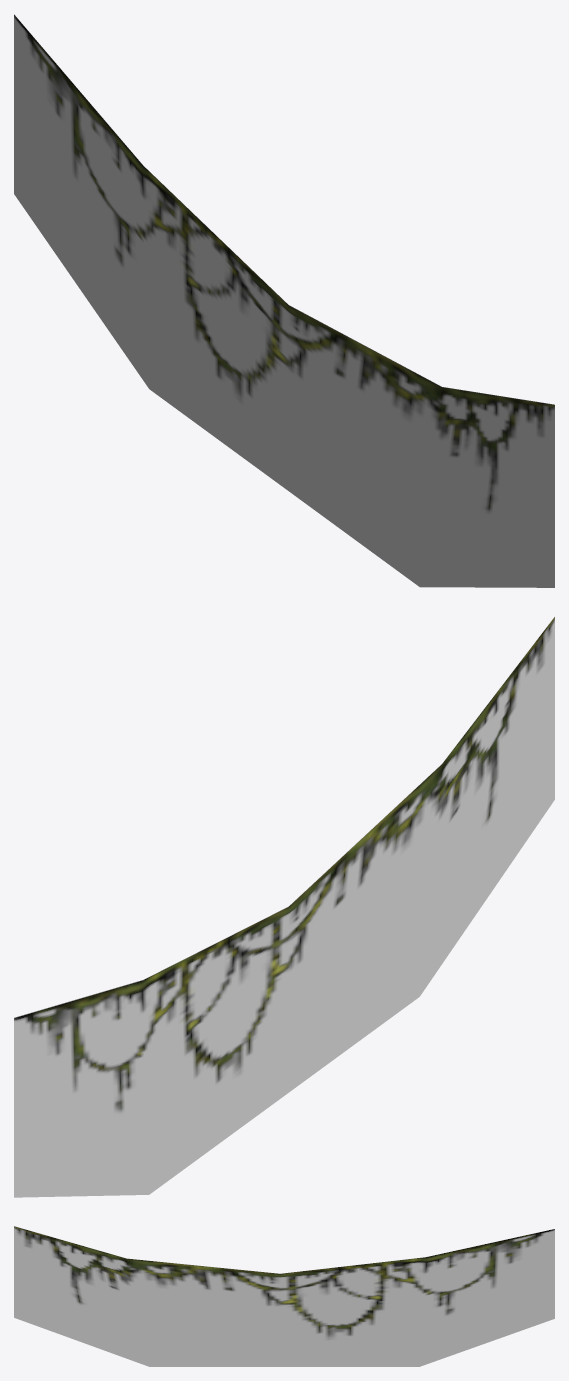
Rendered from Kabel_Dreckig_1548.glb.
3 views of the same model, one above another, from view 1: azimuth 30°, elevation 25°; view 2: azimuth 150°, elevation 25°; view 3: azimuth 270°, elevation 25° (orthographic). The views are drawn at different scales.
Visible parts, largest first — view 1: pPlaneShape36; view 2: pPlaneShape36; view 3: pPlaneShape36.
Boxes of the visible parts, x1,y1,x2,y2 form: pPlaneShape36: (14, 14, 554, 587); pPlaneShape36: (14, 617, 554, 1197); pPlaneShape36: (14, 1226, 554, 1366).
Size of the model in its own units: 2.98e-08 by 0.2871 by 1.
1 material, 1 textured.
